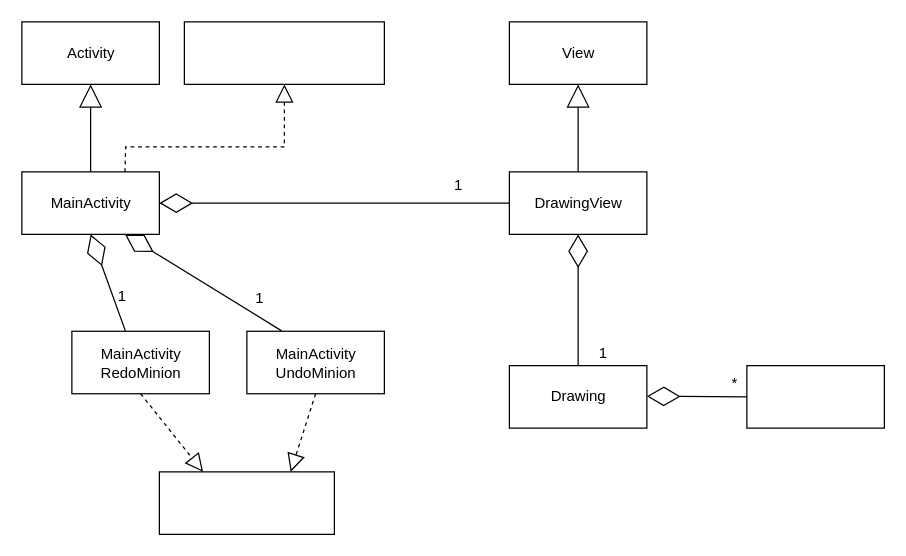
Image size: 906x556. Some labels were removed from this diagram. The centre of each missing label's shape, as x and y in pixels:
"FreeStyleLine" goes at point (815, 396).
"«interface» View.OnClickListener" goes at point (246, 502).
"«interface» View.OnTouchListener" goes at point (283, 52).
